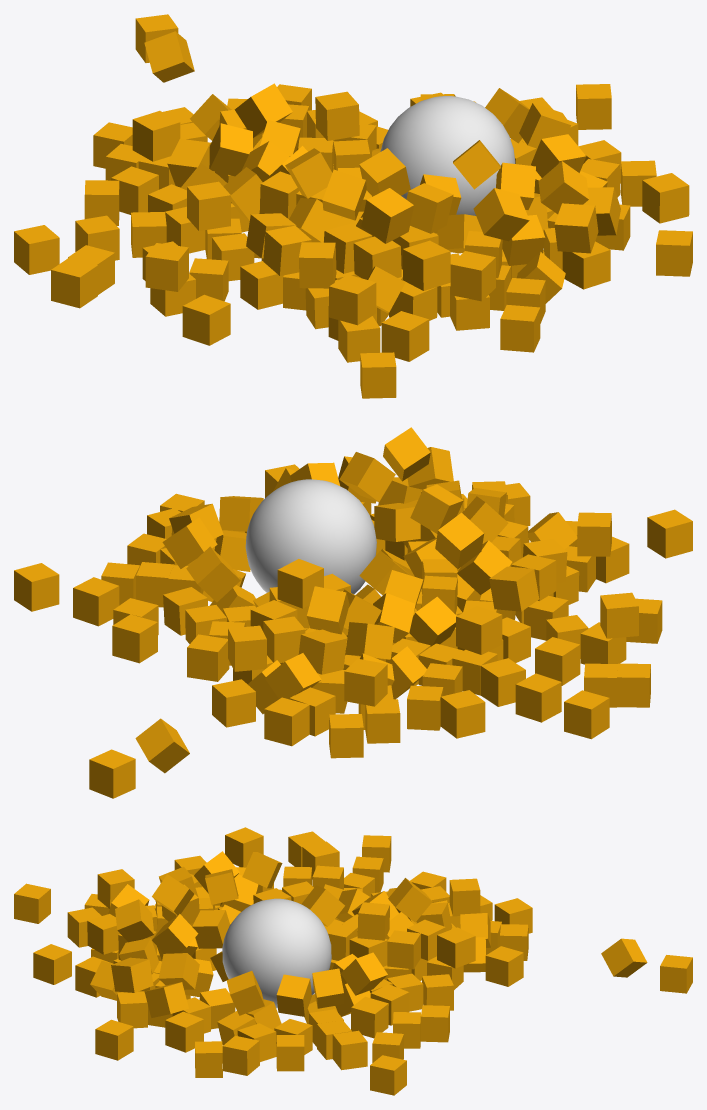
File: simple.glb
3 views of the same model, one above another, from view 1: azimuth 30°, elevation 25°; view 2: azimuth 150°, elevation 25°; view 3: azimuth 270°, elevation 25° (orthographic). The views are drawn at different scales.
Visible parts, largest first — view 1: Sphere, Cube.134, Cube.145, Cube.037, Cube.150, Cube.012, Cube.152, Cube.154, Cube.022, Cube.081, Cube.151, Cube.140 (+71 smaller); view 2: Sphere, Cube.095, Cube.072, Cube.070, Cube.034, Cube.074, Cube.062, Cube.068, Cube.080, Cube.109, Cube.126, Cube.101 (+73 smaller); view 3: Sphere, Cube.111, Cube.045, Cube.085, Cube.028, Cube.049, Cube.043, Cube.134, Cube.034, Cube.062, Cube.058, Cube.140 (+68 smaller).
Part boxes in pixels (x1,y1,x2,y2): Sphere: [380, 96, 515, 215]; Cube.134: [473, 188, 529, 241]; Cube.145: [361, 188, 413, 243]; Cube.037: [182, 294, 230, 345]; Cube.150: [402, 240, 450, 290]; Cube.012: [642, 173, 689, 223]; Cube.152: [329, 274, 376, 325]; Cube.154: [381, 311, 429, 361]; Cube.022: [51, 257, 97, 308]; Cube.081: [132, 110, 180, 161]; Cube.151: [450, 251, 495, 301]; Cube.140: [554, 203, 598, 253]; Sphere: [245, 479, 376, 594]; Cube.095: [89, 749, 135, 798]; Cube.072: [456, 606, 502, 654]; Cube.070: [515, 673, 561, 722]; Cube.034: [647, 509, 692, 558]; Cube.074: [564, 690, 609, 739]; Cube.062: [14, 563, 59, 611]; Cube.068: [440, 690, 485, 738]; Cube.080: [264, 697, 309, 746]; Cube.109: [112, 614, 157, 663]; Cube.126: [489, 566, 539, 611]; Cube.101: [73, 577, 119, 626]; Sphere: [222, 898, 331, 1008]; Cube.111: [437, 927, 475, 968]; Cube.045: [95, 1019, 133, 1060]; Cube.085: [485, 946, 523, 986]; Cube.028: [33, 944, 71, 984]; Cube.049: [222, 1035, 259, 1075]; Cube.043: [165, 1011, 203, 1052]; Cube.134: [115, 899, 154, 942]; Cube.034: [14, 883, 50, 923]; Cube.062: [370, 1055, 406, 1095]; Cube.058: [351, 996, 388, 1038]; Cube.140: [111, 957, 153, 992].
Size of what is drawn, in the model's own units: 41.24 by 9.26 by 49.44.
